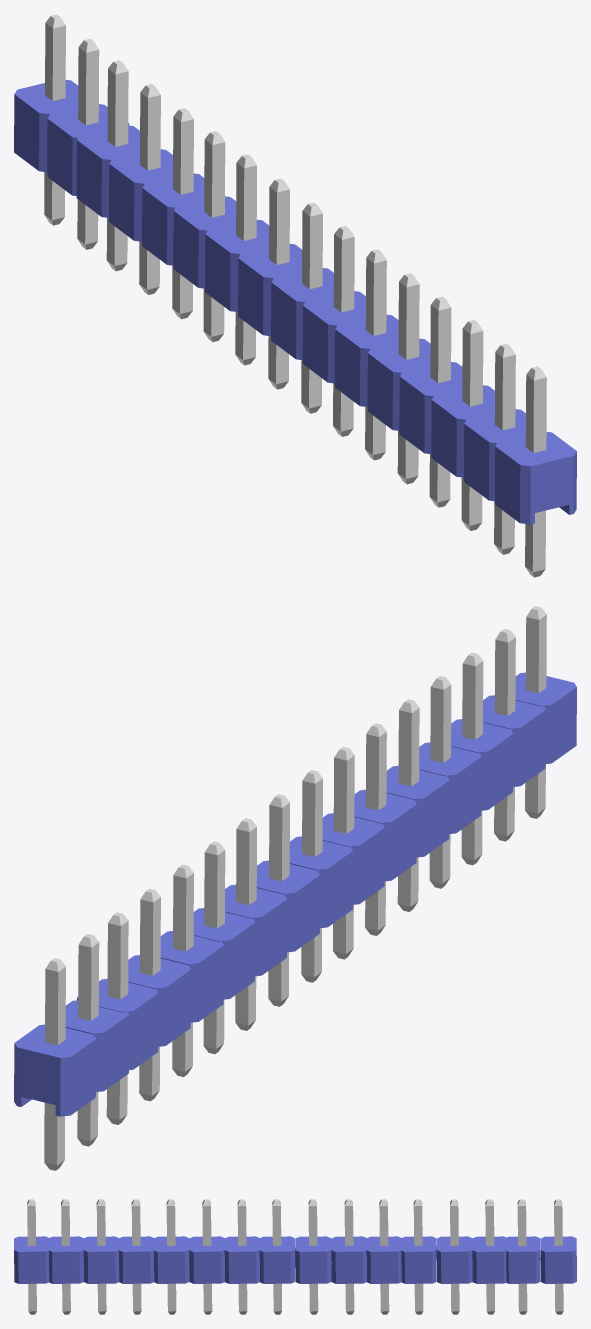
File: pin_header_male.fbx
3 views of the same model, one above another, from view 1: azimuth 30°, elevation 25°; view 2: azimuth 150°, elevation 25°; view 3: azimuth 270°, elevation 25° (orthographic). The views are drawn at different scales.
Parts seen in each view (by area): view 1: header_male.016, header_male.011, header_male.004, header_male.005, header_male.008, header_male.003, header_male.014, header_male.009, header_male.013, header_male.006, header_male.012, header_male.001 (+20 smaller); view 2: header_male.011, header_male.004, header_male.012, header_male, header_male.008, header_male.007, header_male.010, header_male.014, header_male.003, header_male.013, header_male.015, header_male.005 (+20 smaller); view 3: header_male.004, header_male.008, header_male.011, header_male.005, header_male.014, header_male.003, header_male.012, header_male, header_male.007, header_male.013, header_male.016, header_male.001 (+20 smaller).
Boxes of the visible parts, x1,y1,x2,y2 form: header_male.016: (495,431,576,524); header_male.011: (14,79,78,172); header_male.004: (238,243,302,336); header_male.005: (205,219,269,311); header_male.008: (109,149,172,241); header_male.003: (335,314,398,406); header_male.014: (431,385,494,477); header_male.009: (76,125,139,217); header_male.013: (399,362,462,453); header_male.006: (173,196,236,288); header_male.012: (367,338,430,430); header_male.001: (302,291,365,383); header_male.011: (14,1024,95,1116); header_male.004: (256,860,320,952); header_male.012: (386,765,449,857); header_male: (289,836,353,928); header_male.008: (128,955,190,1046); header_male.007: (160,931,223,1022); header_male.010: (65,1000,129,1091); header_male.014: (451,719,513,810); header_male.003: (354,789,416,881); header_male.013: (419,742,481,833); header_male.015: (483,695,545,786); header_male.005: (225,884,287,976); header_male.004: (295,1236,331,1283); header_male.008: (436,1236,472,1283); header_male.011: (540,1236,576,1283); header_male.005: (331,1236,367,1283); header_male.014: (83,1236,119,1283); header_male.003: (189,1236,224,1283); header_male.012: (154,1236,189,1283); header_male: (259,1236,295,1283); header_male.007: (401,1236,436,1283); header_male.013: (119,1236,154,1283); header_male.016: (14,1236,49,1283); header_male.001: (224,1236,260,1283).
Bounding box in the file's own units: 254 × 888 × 3982.
